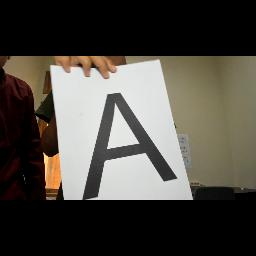a: (75, 88, 183, 200)
